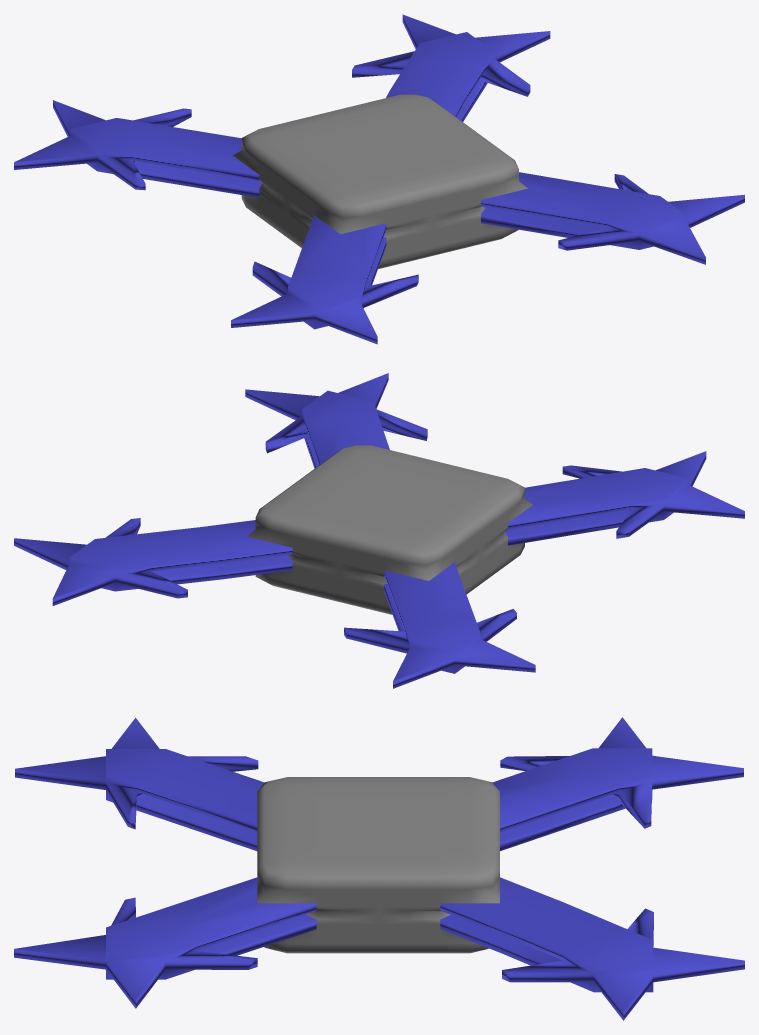
File: MS_Drone.fbx
The picture shows the model from 3 angles, top to bottom: view 1: azimuth 30°, elevation 25°; view 2: azimuth 150°, elevation 25°; view 3: azimuth 270°, elevation 25°; orthographic projection. The views are drawn at different scales.
Visible parts, largest first — view 1: pCube1; view 2: pCube1; view 3: pCube1.
Part boxes in pixels (x1,y1,x2,y2): pCube1: (14, 14, 744, 344); pCube1: (14, 373, 744, 688); pCube1: (14, 717, 744, 1020).
Size of the model in its own units: 22.94 by 4.23 by 24.02.
